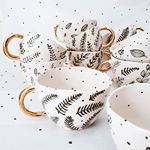cups: (15, 65, 115, 133)
